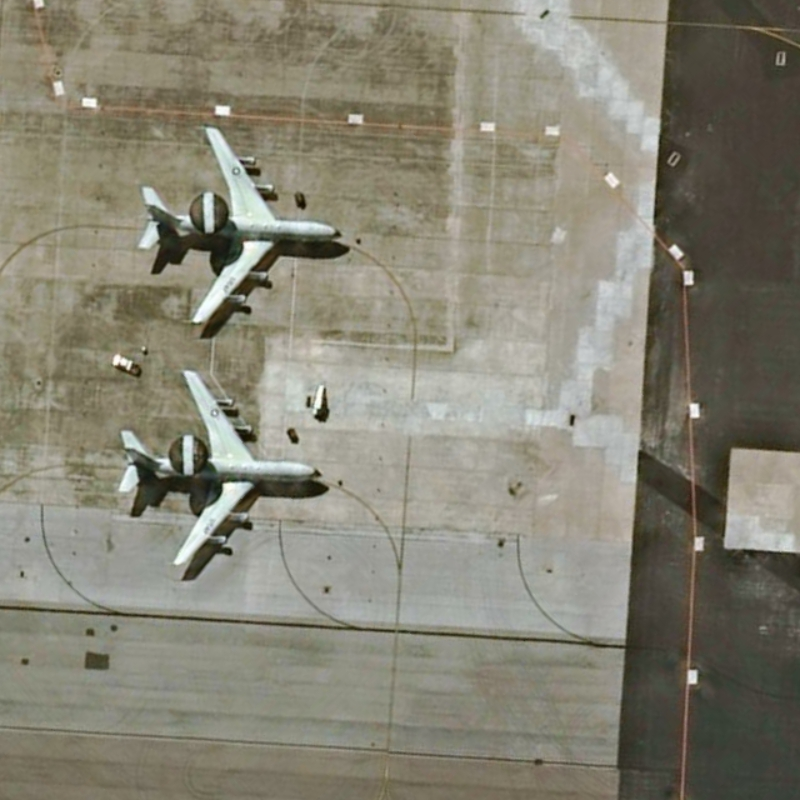A7: (137, 119, 349, 333), (110, 362, 326, 572)
